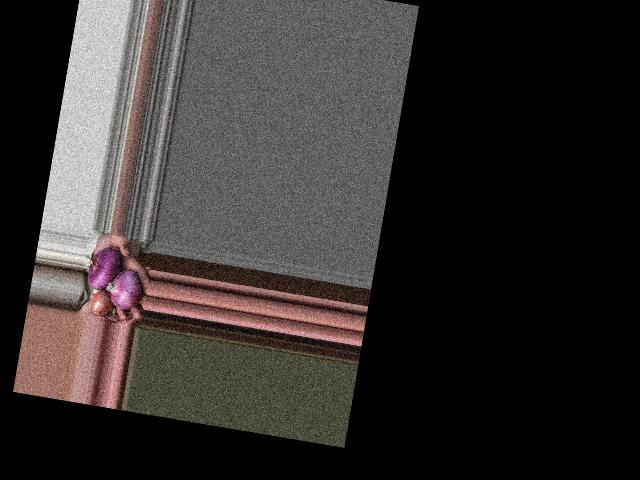onion: (87, 244, 120, 290)
